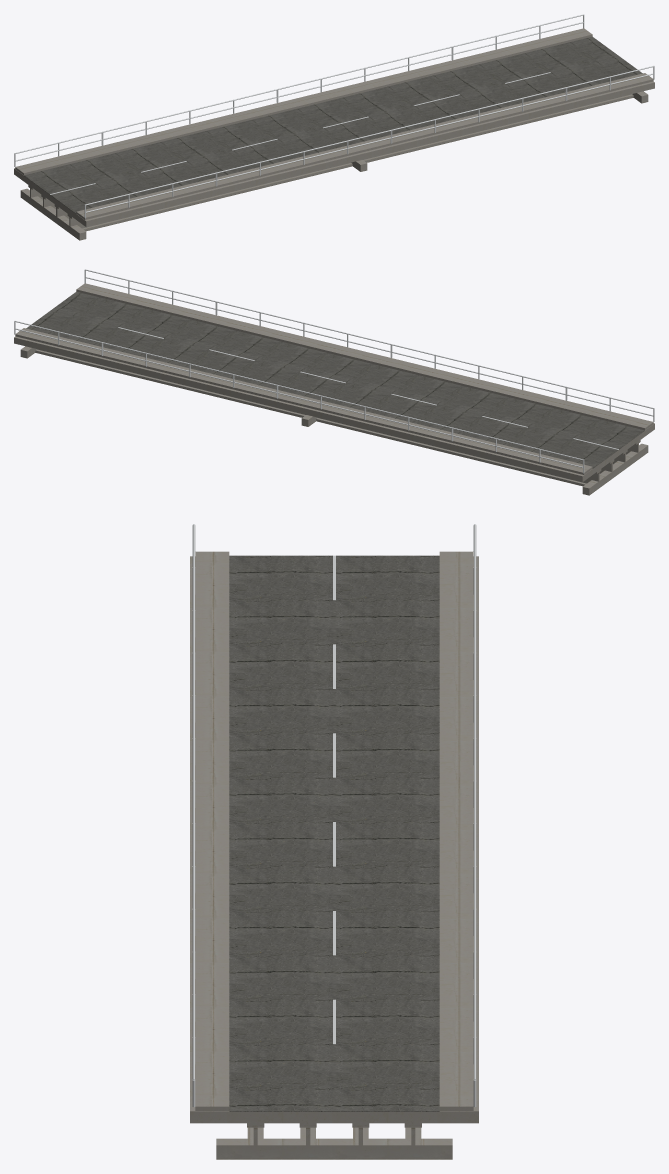
The model's file is bridge50m.glb.
3 renders of one model, top to bottom at view 1: azimuth 30°, elevation 25°; view 2: azimuth 150°, elevation 25°; view 3: azimuth 270°, elevation 25°, orthographic. The views are drawn at different scales.
Visible parts, largest first — view 1: ANOMALIA_Viaduct50m; view 2: ANOMALIA_Viaduct50m; view 3: ANOMALIA_Viaduct50m.
Part boxes in pixels (x1,y1,x2,y2): ANOMALIA_Viaduct50m: (14,14,654,240); ANOMALIA_Viaduct50m: (14,269,654,495); ANOMALIA_Viaduct50m: (190,524,478,1159).
Bounding box in the file's own units: 50.11 × 3.38 × 11.
3 materials, 2 textured.
